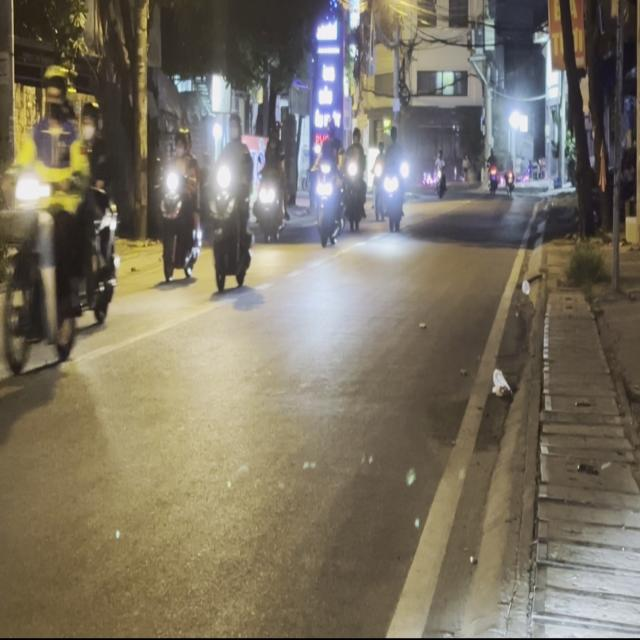helmet: (40, 62, 70, 118), (78, 96, 102, 142), (226, 110, 242, 139), (174, 125, 190, 153)
licenseplate: (0, 58, 118, 382), (207, 108, 256, 293), (155, 123, 203, 286)
